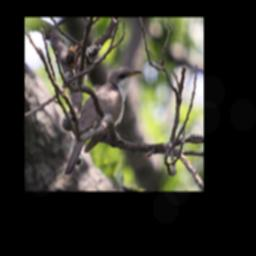Cuckoo: (64, 63, 144, 179)
